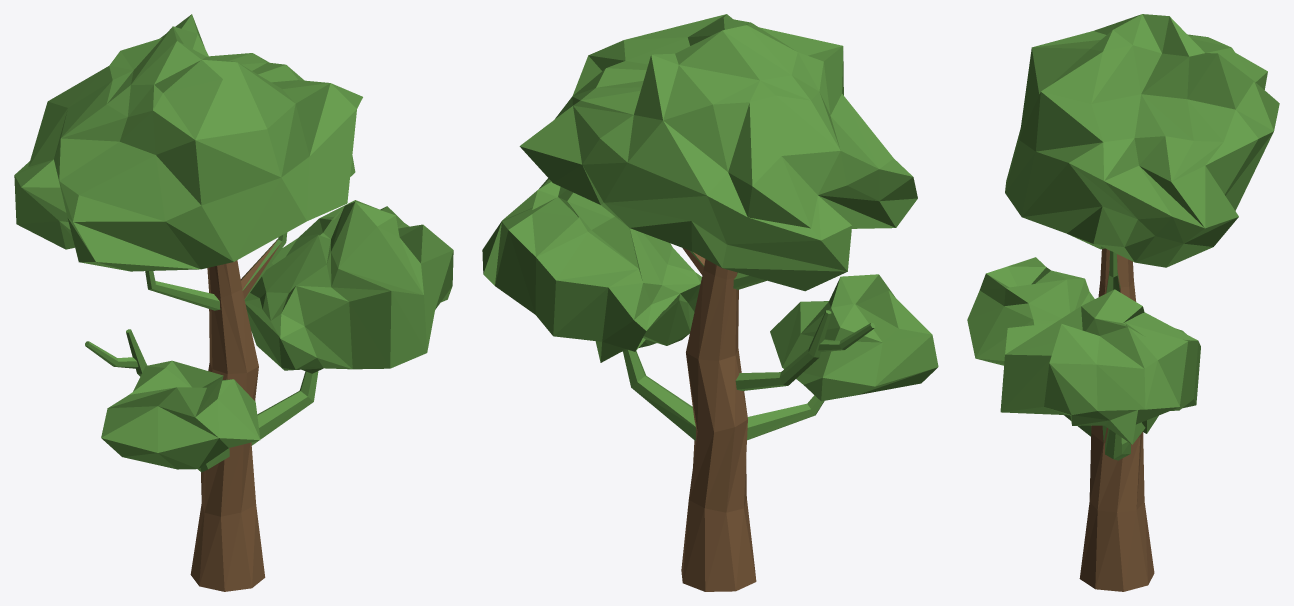
The model's file is tree3d-069.glb.
The picture shows the model from 3 angles, left to right: view 1: azimuth 30°, elevation 25°; view 2: azimuth 150°, elevation 25°; view 3: azimuth 270°, elevation 25°; orthographic projection. The views are drawn at different scales.
Visible parts, largest first — view 1: tree3d-069; view 2: tree3d-069; view 3: tree3d-069.
Part boxes in pixels (box(x1,y1,x2,y2)): tree3d-069: box(14, 14, 453, 591); tree3d-069: box(482, 14, 938, 591); tree3d-069: box(967, 14, 1279, 591).
Size of the model in its own units: 0.7326 by 1 by 0.5191.
